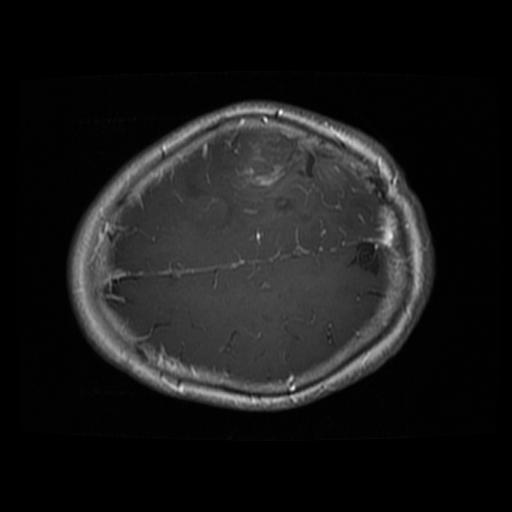glioma: (216, 130, 317, 205)
